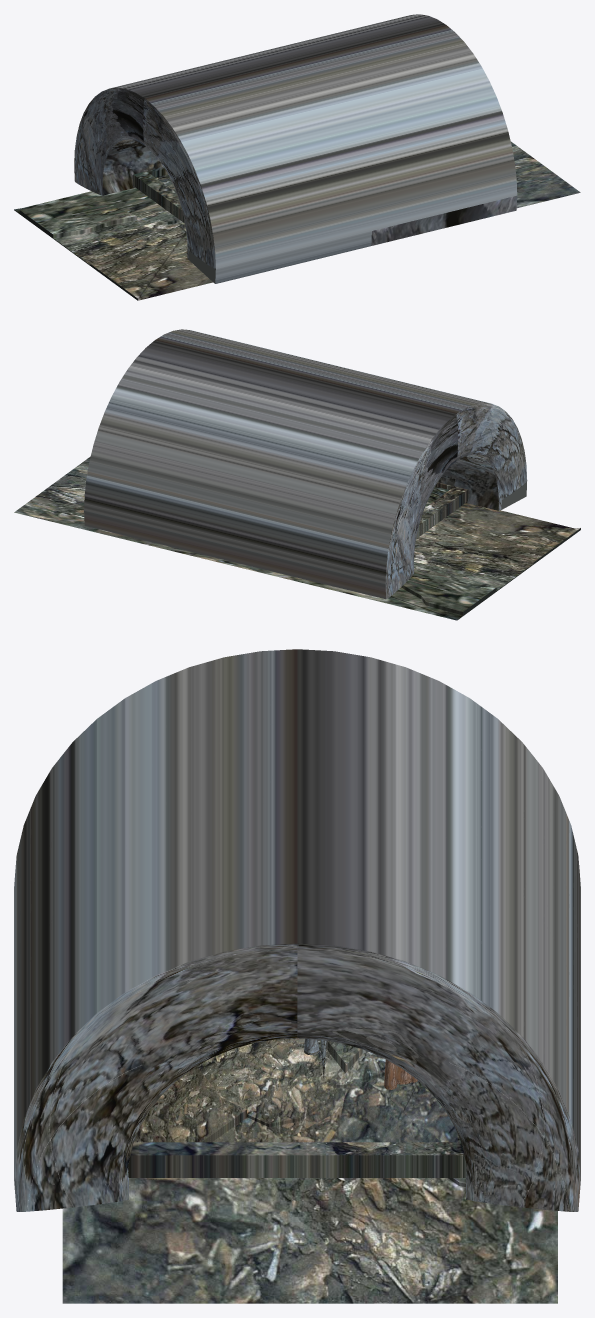
The model's file is cuevabeta3.fbx.
The picture shows the model from 3 angles, top to bottom: view 1: azimuth 30°, elevation 25°; view 2: azimuth 150°, elevation 25°; view 3: azimuth 270°, elevation 25°; orthographic projection. The views are drawn at different scales.
Parts seen in each view (by area): view 1: Torus, Plano, Plano.001; view 2: Torus, Plano, Plano.001; view 3: Torus, Plano, Plano.001.
Part boxes in pixels (<box>): Torus: <box>74,14,517,283</box>; Plano: <box>14,141,580,300</box>; Plano.001: <box>133,167,184,223</box>; Torus: <box>84,329,527,599</box>; Plano: <box>14,456,580,620</box>; Plano.001: <box>416,482,468,538</box>; Torus: <box>14,649,580,1211</box>; Plano: <box>62,1178,557,1303</box>; Plano.001: <box>128,1038,466,1177</box>.
Bounding box in the file's own units: 8415 × 2624 × 4660.
44 materials, 44 textured.
